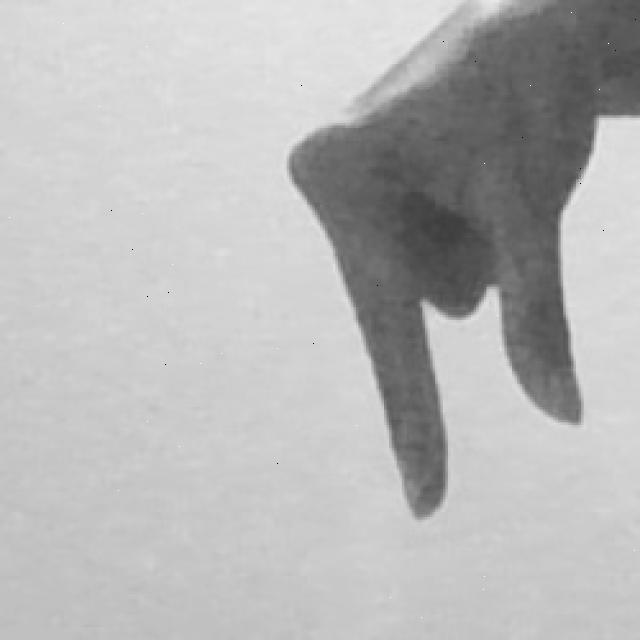Q: (279, 0, 620, 538)
